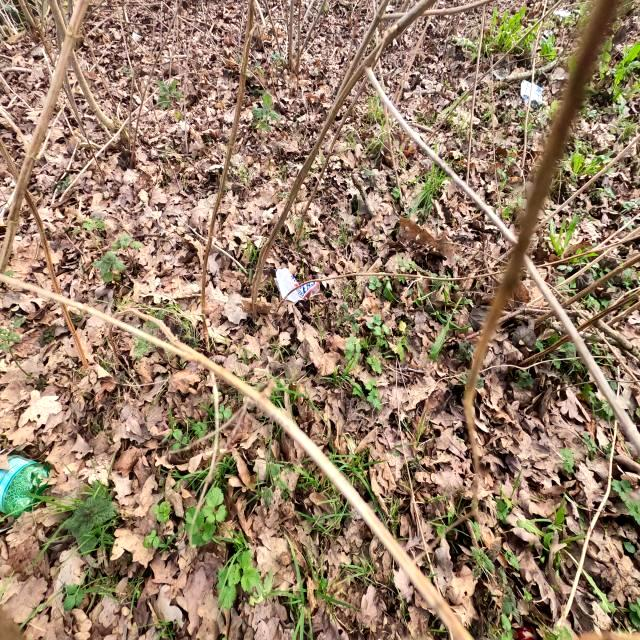Plastic: (270, 266, 320, 302)
